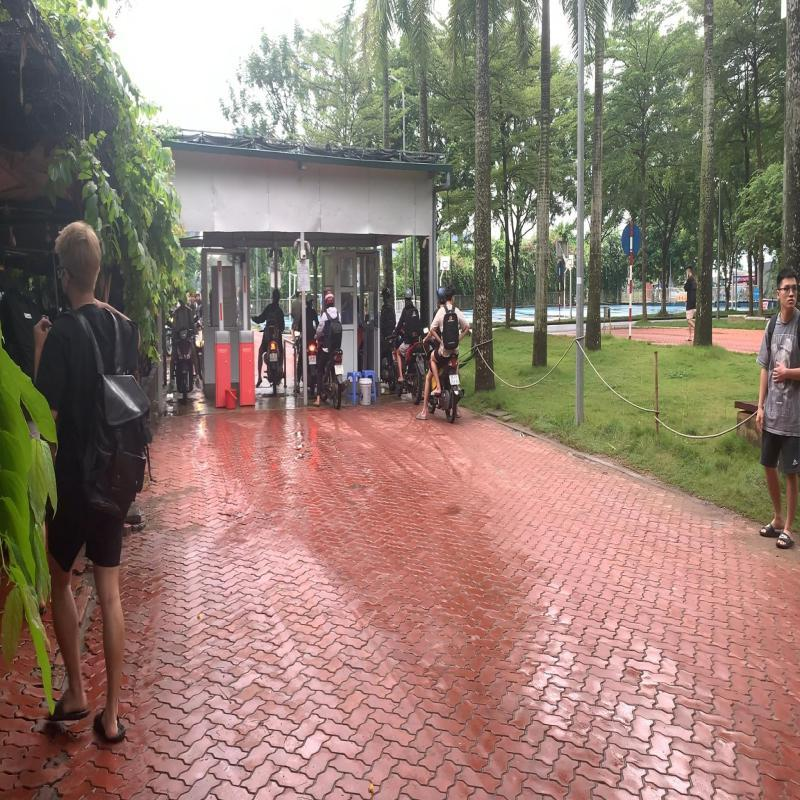helmet: (436, 286, 446, 305)
licenseplate: (449, 374, 460, 386)
motorcyclist: (416, 284, 470, 424)
nohelmet: (446, 286, 454, 306)
